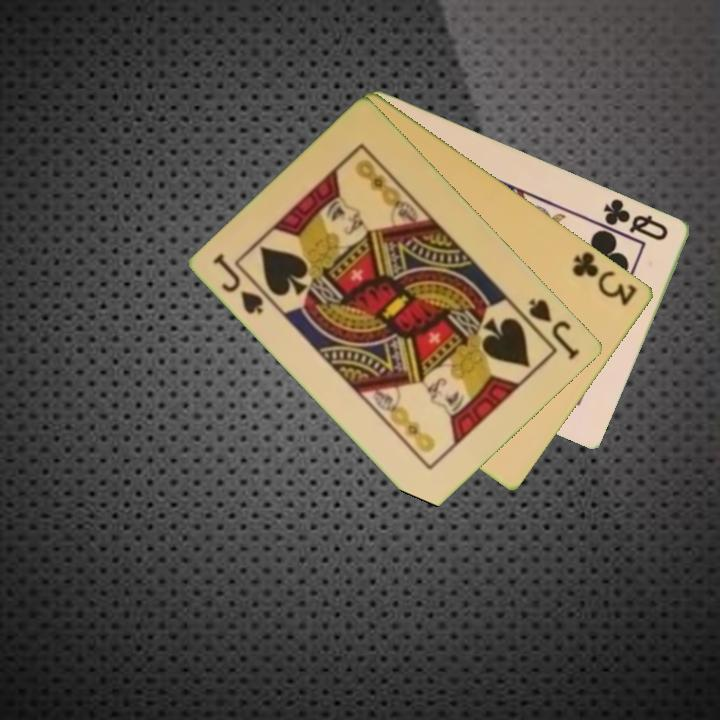3c: (568, 248, 641, 309)
Js: (525, 295, 584, 363), (209, 250, 267, 317)
Qc: (600, 195, 672, 244)
